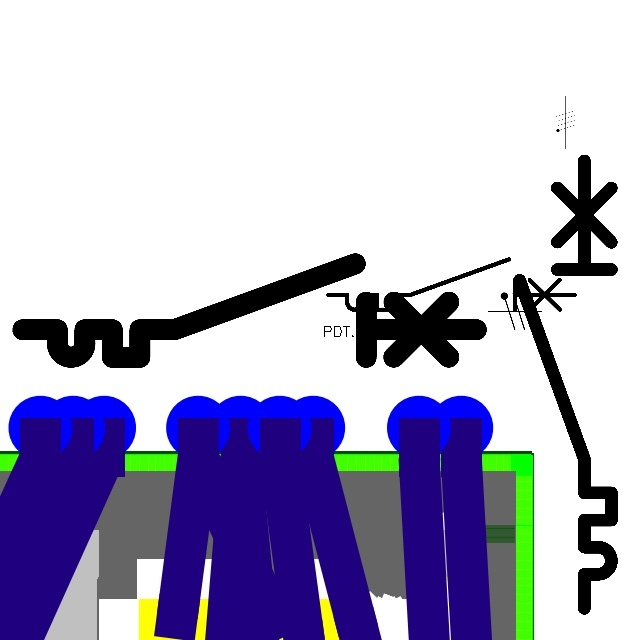interruptor_termomagnetico: (11, 252, 488, 369), (508, 149, 623, 620), (322, 253, 581, 316)
